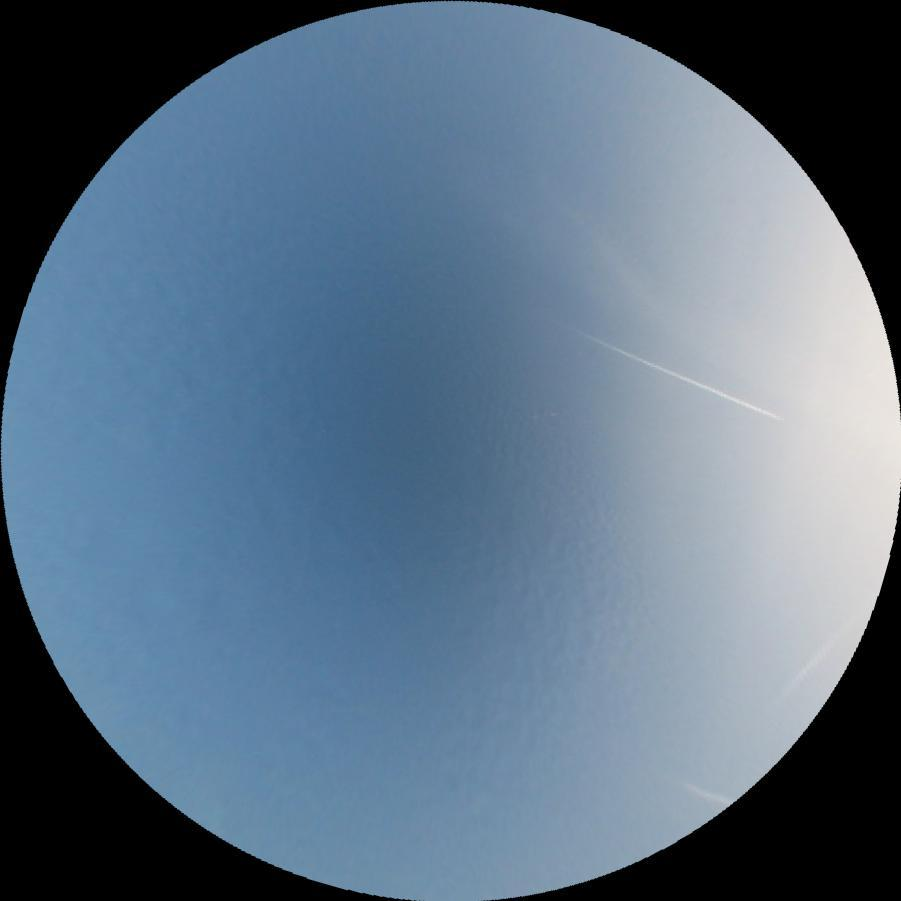contrail young: (577, 329, 788, 424), (758, 627, 848, 714), (674, 778, 733, 810)
